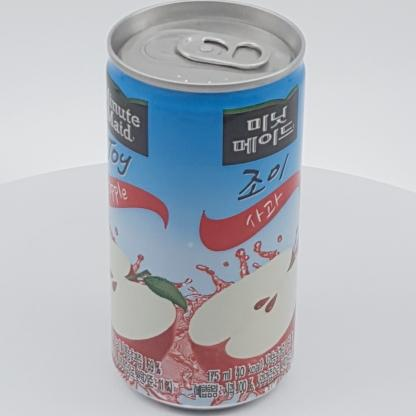-------175ml: (107, 0, 306, 410)
